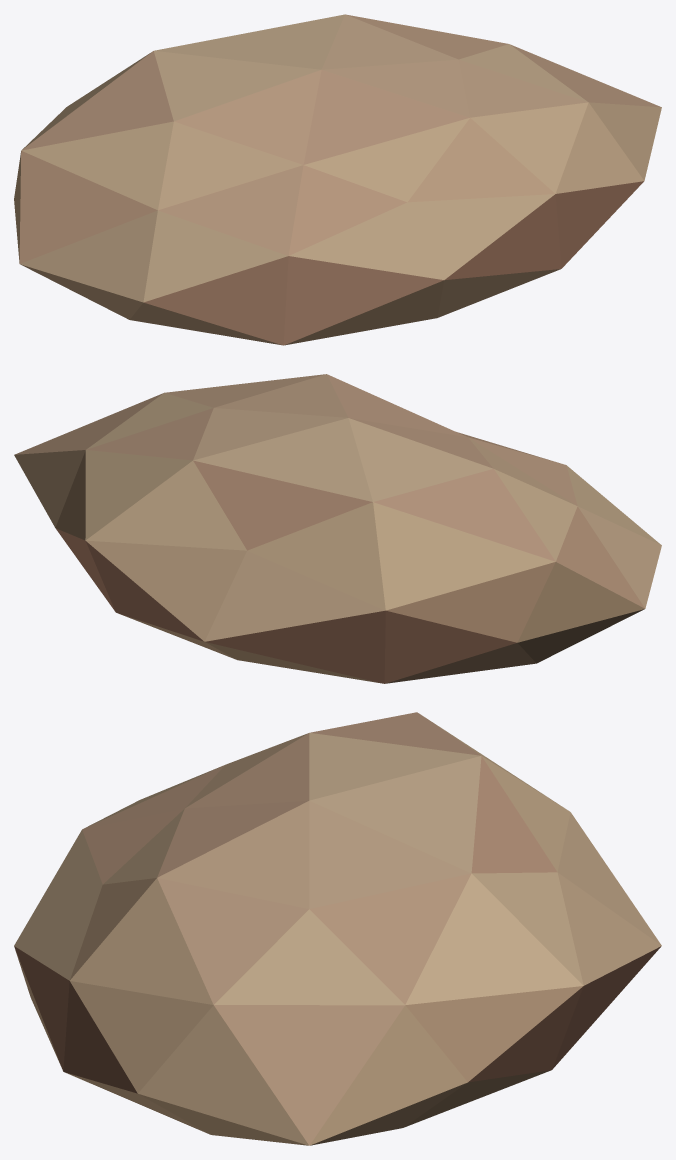
The model's file is pebble_4.glb.
3 views of the same model, one above another, from view 1: azimuth 30°, elevation 25°; view 2: azimuth 150°, elevation 25°; view 3: azimuth 270°, elevation 25° (orthographic). The views are drawn at different scales.
Visible parts, largest first — view 1: rock; view 2: rock; view 3: rock.
Part boxes in pixels (bbox=[...]): rock: bbox=[14, 14, 661, 345]; rock: bbox=[14, 374, 661, 683]; rock: bbox=[14, 712, 661, 1145].
Bounding box in the file's own units: 0.8 × 0.1947 × 0.5805.
